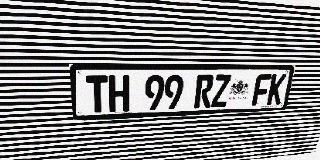9: (145, 75, 165, 110), (164, 75, 184, 110)
F: (251, 74, 272, 105)
H: (108, 75, 129, 112)
K: (266, 74, 286, 105)
R: (194, 75, 214, 108)
T: (86, 75, 108, 113)
Z: (211, 74, 231, 107)
